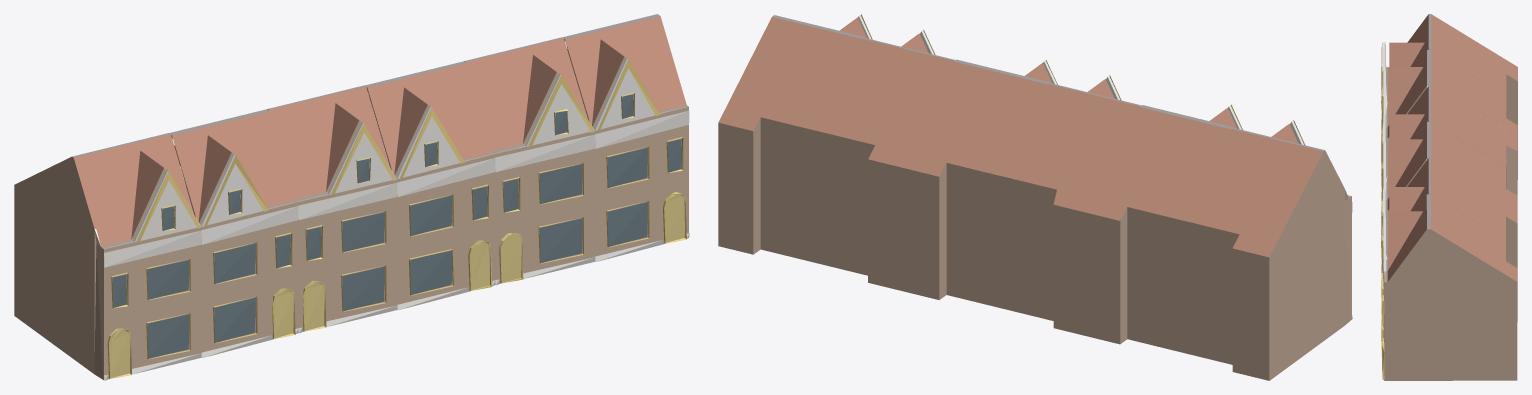
Rendered from chunk-face-zaanhof-23-34.lod2.glb.
3 views of the same model, side by side, from view 1: azimuth 30°, elevation 25°; view 2: azimuth 150°, elevation 25°; view 3: azimuth 270°, elevation 25° (orthographic). The views are drawn at different scales.
Parts seen in each view (by area): view 1: lod2; view 2: lod2; view 3: lod2.
Boxes of the visible parts, left/top/right/bottom form: lod2: left=14, top=14, right=689, bottom=380; lod2: left=718, top=14, right=1352, bottom=380; lod2: left=1381, top=14, right=1517, bottom=380.
Bounding box in the file's own units: 35.56 × 11.69 × 9.55.
